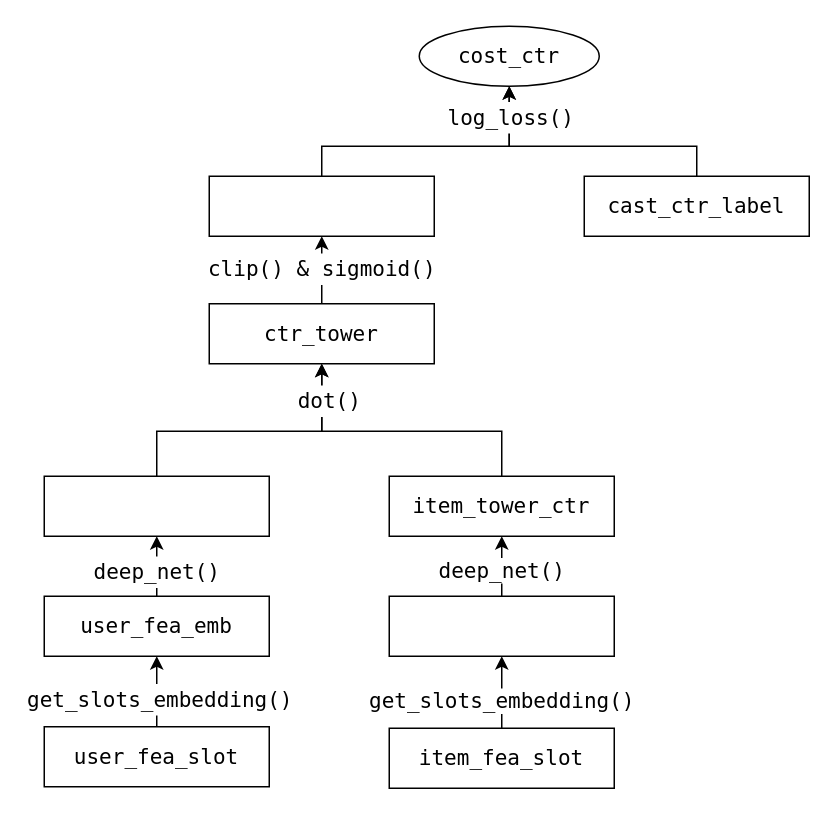
Some shapes in this 836 by 815 pixel diagram are drawn without their labels. Each missing label, with the box of its shape:
item_fea_emb: (388, 595, 614, 656)
sigmoid_ctr: (208, 175, 434, 236)
user_tower_ctr: (43, 475, 269, 536)
